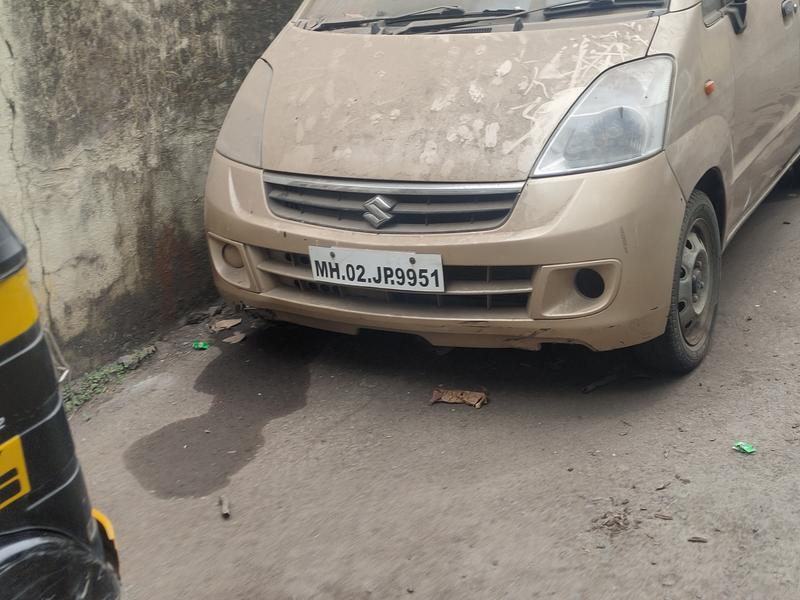license_plate: (300, 236, 453, 299)
